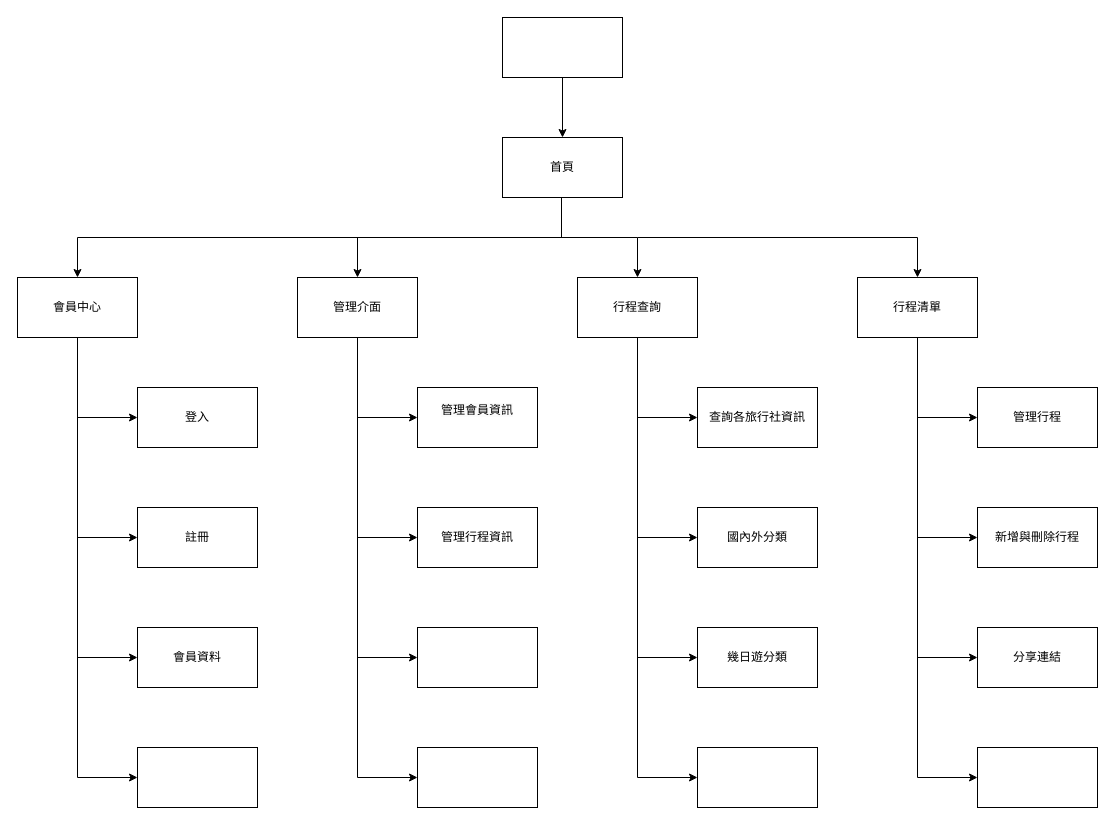
The diagram is 1115 pixels wide and 825 high, and some of its shapes have lost their labels. Each missing label, with the box of its shape:
價格區間分類: (696, 746, 818, 808)
旅遊資訊平台: (502, 16, 622, 78)
重設密碼: (136, 746, 258, 808)
